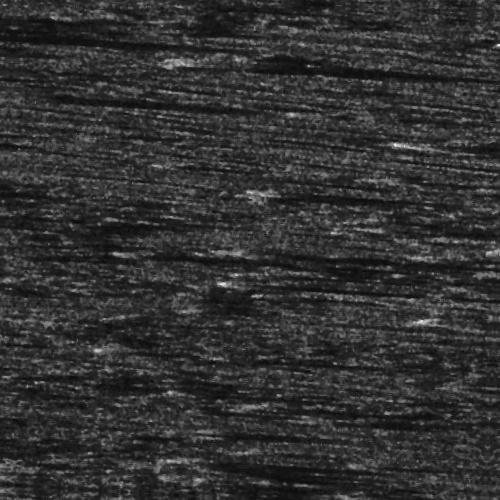object: (150, 54, 265, 73), (232, 396, 325, 409), (69, 255, 184, 264), (286, 411, 369, 420), (0, 103, 43, 114), (475, 18, 500, 35), (252, 185, 293, 194), (247, 189, 288, 198), (415, 305, 488, 310), (377, 132, 440, 137), (204, 247, 267, 252), (219, 280, 272, 285), (209, 429, 262, 432), (171, 392, 202, 397)
shadow: (208, 54, 432, 73), (126, 255, 395, 264), (0, 44, 268, 53), (0, 103, 203, 114), (278, 396, 426, 409), (236, 247, 500, 252), (272, 185, 411, 194), (268, 189, 407, 198), (328, 411, 429, 420), (246, 280, 387, 285), (187, 392, 328, 397), (409, 132, 500, 137), (236, 429, 333, 432), (451, 305, 500, 310), (213, 460, 357, 461), (0, 79, 28, 84)
